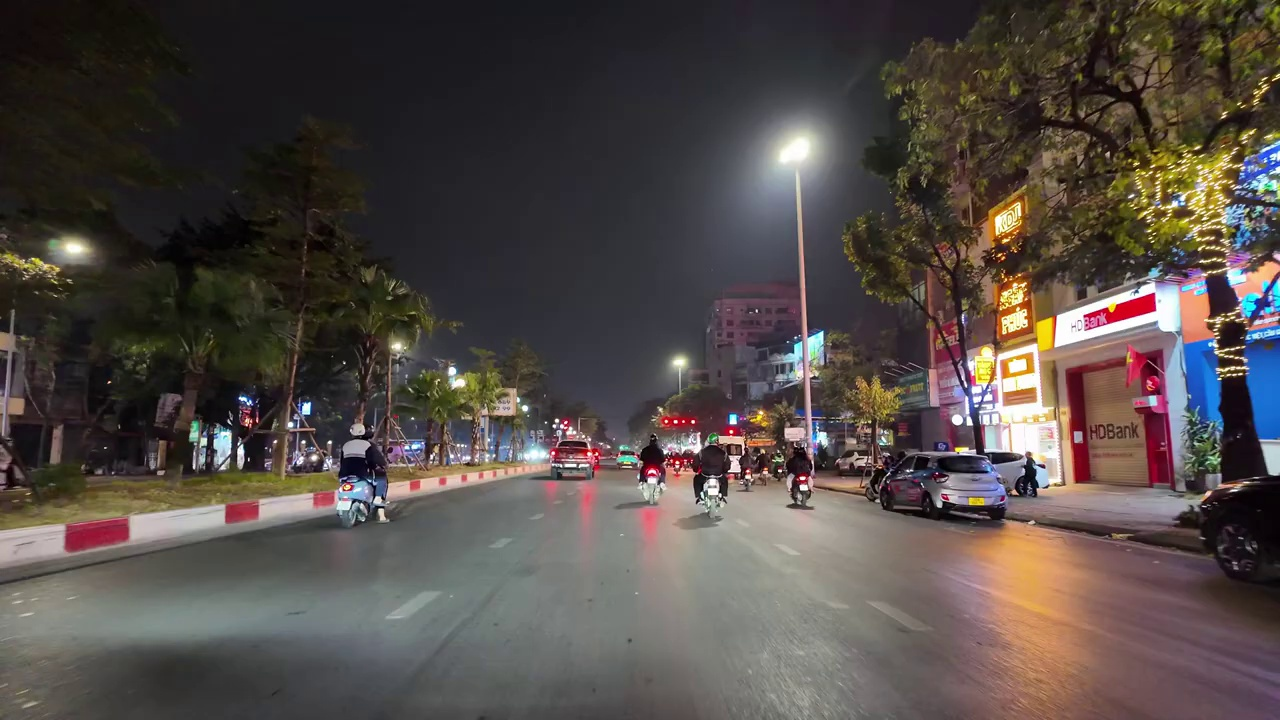acesa: (774, 131, 816, 167), (55, 235, 94, 267), (667, 351, 692, 377)
